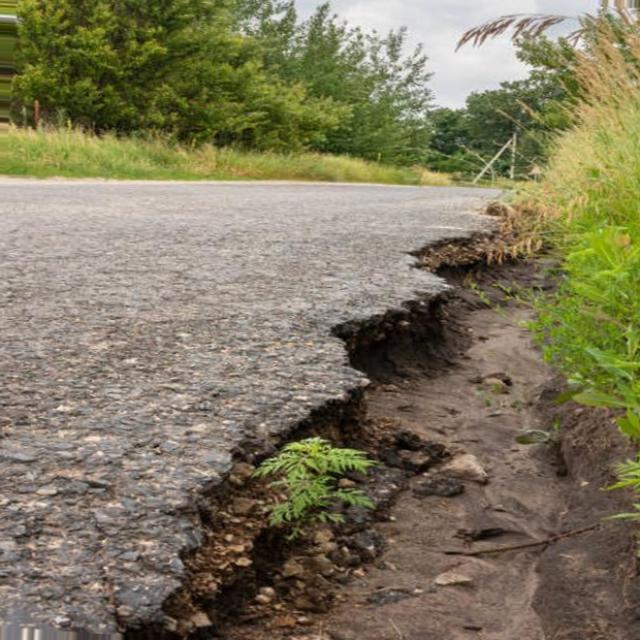Pinggir: (115, 207, 539, 640)
